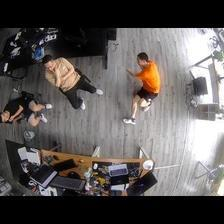fall: (121, 52, 161, 127)
